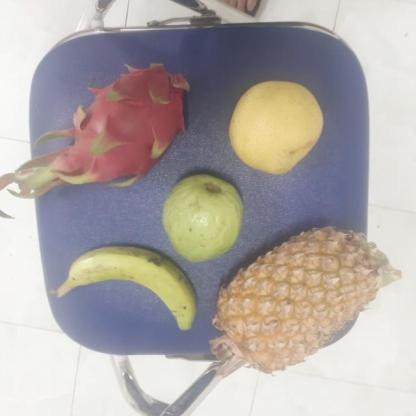banana: (67, 244, 202, 330)
guava: (162, 175, 246, 261)
pear: (226, 80, 325, 176)
pineapple: (219, 223, 386, 368)
pitaya: (43, 43, 202, 184)
